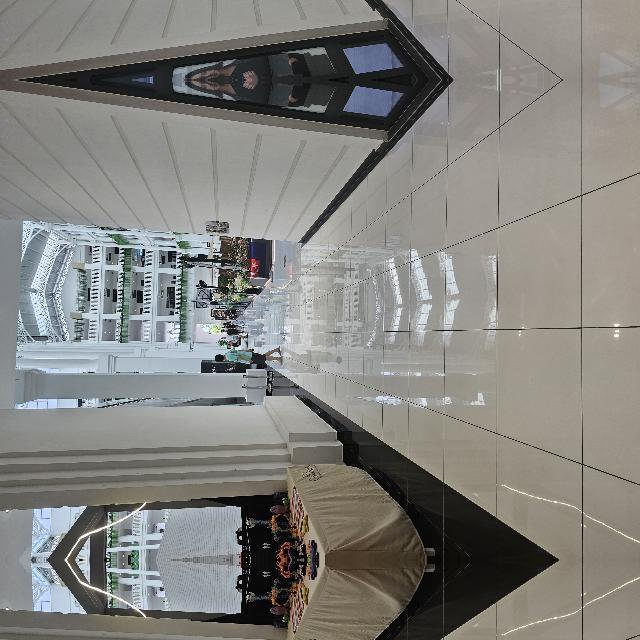obstacle: (1, 364, 98, 516), (0, 604, 97, 640)
person: (192, 295, 214, 363)
